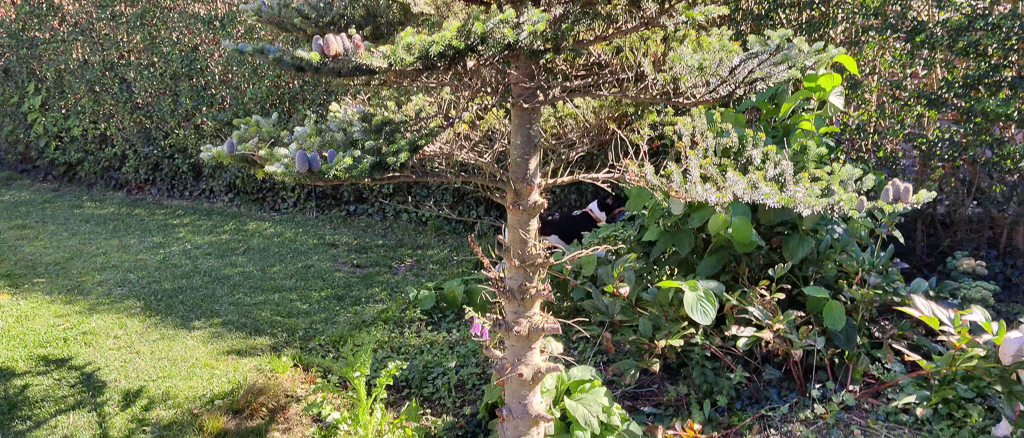Dog: (473, 179, 641, 280)
Eagle: (990, 300, 1024, 438)
